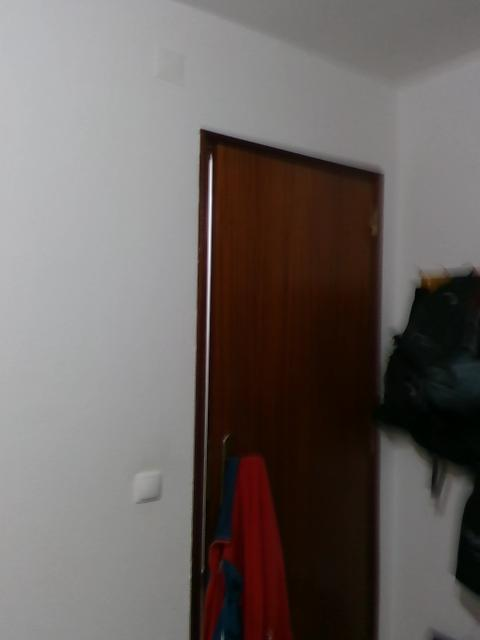closed_door: (186, 127, 385, 639)
